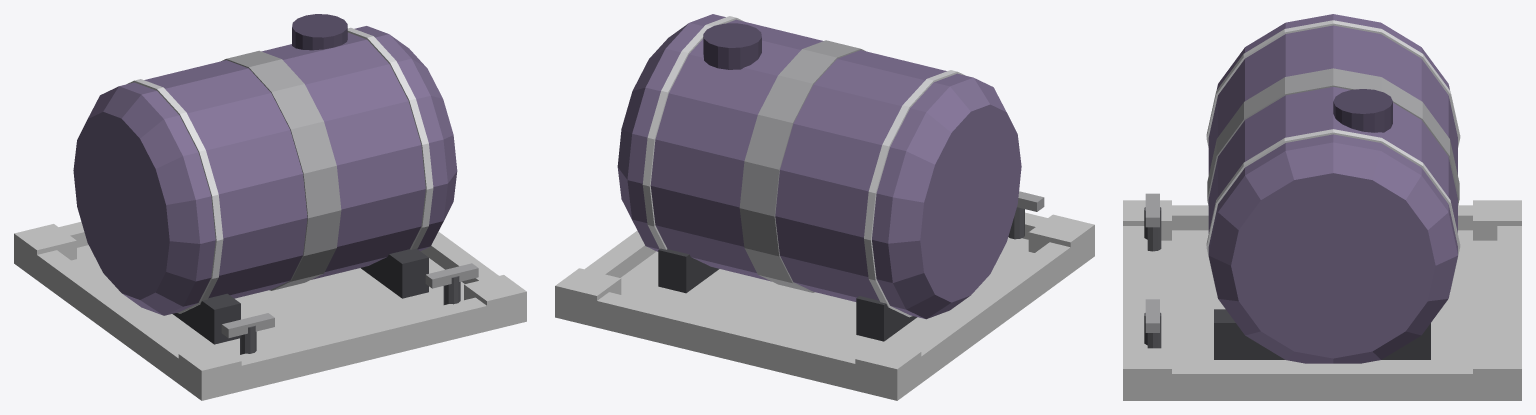
The model's file is vge_large_astrofuel_tank.obj.
The picture shows the model from 3 angles, left to right: view 1: azimuth 30°, elevation 25°; view 2: azimuth 150°, elevation 25°; view 3: azimuth 270°, elevation 25°; orthographic projection. The views are drawn at different scales.
Parts seen in each view (by area): view 1: vge_large_astrofuel_tank_11, vge_large_astrofuel_tank_0, vge_large_astrofuel_tank_1, vge_large_astrofuel_tank_12, vge_large_astrofuel_tank_3, vge_large_astrofuel_tank_5, vge_large_astrofuel_tank_7, vge_large_astrofuel_tank_10, vge_large_astrofuel_tank_13, vge_large_astrofuel_tank_14, vge_large_astrofuel_tank_9, vge_large_astrofuel_tank_15 (+5 smaller); view 2: vge_large_astrofuel_tank_11, vge_large_astrofuel_tank_0, vge_large_astrofuel_tank_2, vge_large_astrofuel_tank_12, vge_large_astrofuel_tank_3, vge_large_astrofuel_tank_15, vge_large_astrofuel_tank_6, vge_large_astrofuel_tank_13, vge_large_astrofuel_tank_14, vge_large_astrofuel_tank_5, vge_large_astrofuel_tank_10, vge_large_astrofuel_tank_9 (+2 smaller); view 3: vge_large_astrofuel_tank_11, vge_large_astrofuel_tank_0, vge_large_astrofuel_tank_4, vge_large_astrofuel_tank_12, vge_large_astrofuel_tank_2, vge_large_astrofuel_tank_1, vge_large_astrofuel_tank_10, vge_large_astrofuel_tank_8, vge_large_astrofuel_tank_7, vge_large_astrofuel_tank_15, vge_large_astrofuel_tank_14, vge_large_astrofuel_tank_13 (+6 smaller).
Part boxes in pixels (x1,y1,x2,y2): vge_large_astrofuel_tank_11: (73,26,457,315); vge_large_astrofuel_tank_0: (14,245,486,400); vge_large_astrofuel_tank_1: (190,296,526,400); vge_large_astrofuel_tank_12: (221,50,341,290); vge_large_astrofuel_tank_3: (25,247,193,380); vge_large_astrofuel_tank_5: (178,344,241,400); vge_large_astrofuel_tank_7: (464,275,526,331); vge_large_astrofuel_tank_10: (361,248,428,298); vge_large_astrofuel_tank_13: (127,79,223,313); vge_large_astrofuel_tank_14: (347,27,433,249); vge_large_astrofuel_tank_9: (172,293,240,344); vge_large_astrofuel_tank_15: (292,14,347,50); vge_large_astrofuel_tank_11: (617,14,1021,319); vge_large_astrofuel_tank_0: (555,237,1094,400); vge_large_astrofuel_tank_2: (555,290,908,400); vge_large_astrofuel_tank_12: (739,40,865,292); vge_large_astrofuel_tank_3: (906,242,1070,388); vge_large_astrofuel_tank_15: (703,23,761,69); vge_large_astrofuel_tank_6: (855,341,921,399); vge_large_astrofuel_tank_13: (864,70,965,317); vge_large_astrofuel_tank_14: (642,16,743,249); vge_large_astrofuel_tank_5: (1028,214,1094,261); vge_large_astrofuel_tank_10: (658,248,718,293); vge_large_astrofuel_tank_9: (856,296,917,341); vge_large_astrofuel_tank_11: (1208,14,1457,363); vge_large_astrofuel_tank_0: (1123,230,1521,400); vge_large_astrofuel_tank_4: (1147,363,1497,400); vge_large_astrofuel_tank_12: (1207,68,1459,205); vge_large_astrofuel_tank_2: (1497,226,1521,400); vge_large_astrofuel_tank_1: (1123,226,1147,400); vge_large_astrofuel_tank_10: (1214,309,1430,359); vge_large_astrofuel_tank_8: (1473,348,1521,400); vge_large_astrofuel_tank_7: (1123,348,1171,400); vge_large_astrofuel_tank_15: (1333,89,1392,132); vge_large_astrofuel_tank_14: (1206,129,1460,291); vge_large_astrofuel_tank_13: (1206,20,1460,147).
Size of the model in its own units: 2.23 by 1.55 by 2.23.
